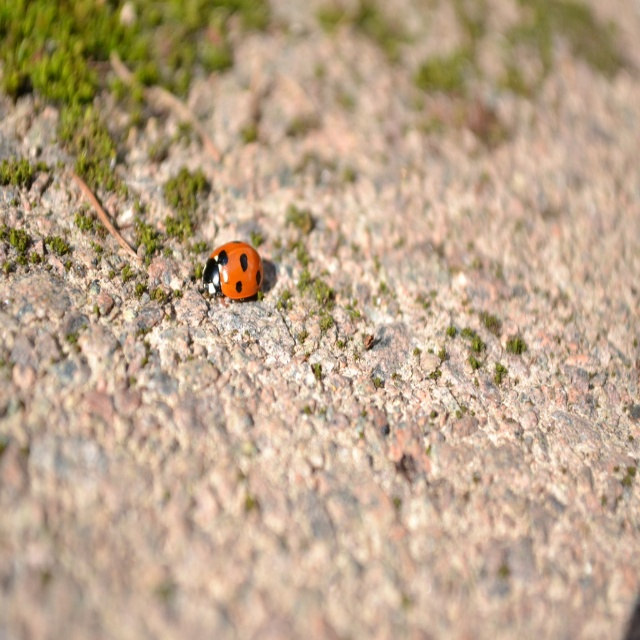Ladybug: (197, 241, 264, 325)
